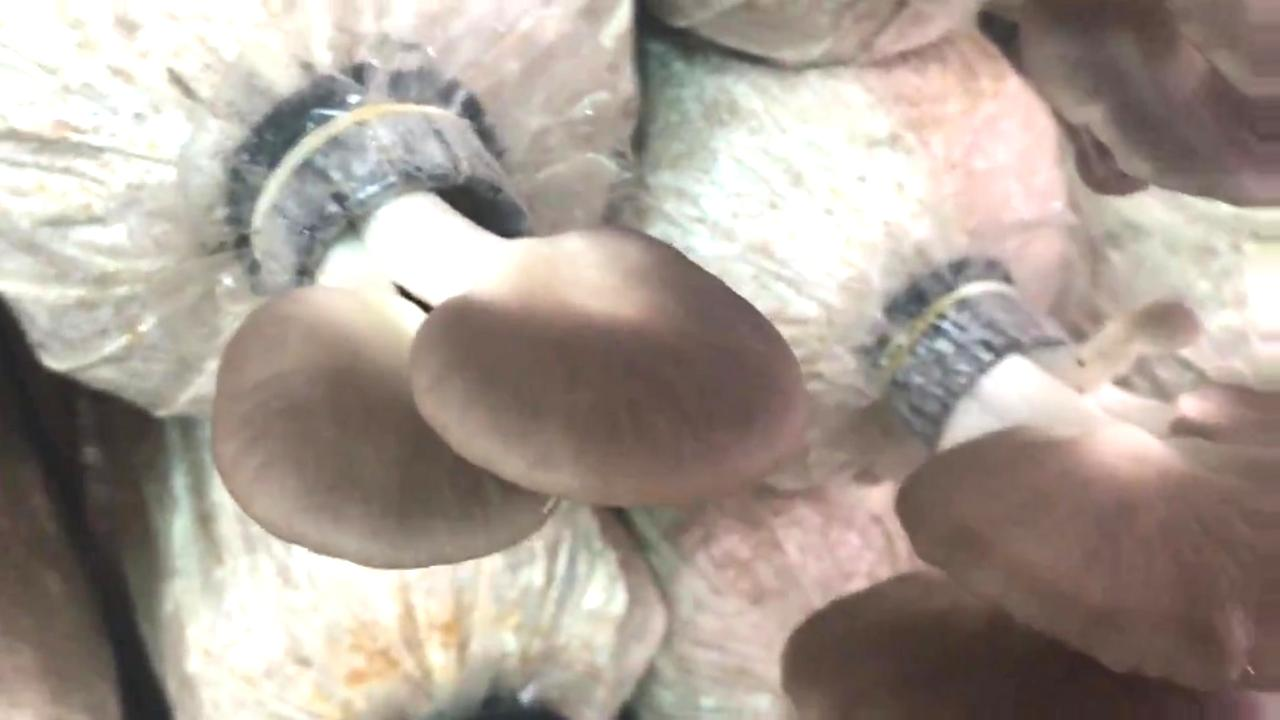nam: (207, 98, 798, 563), (784, 277, 1280, 720)
